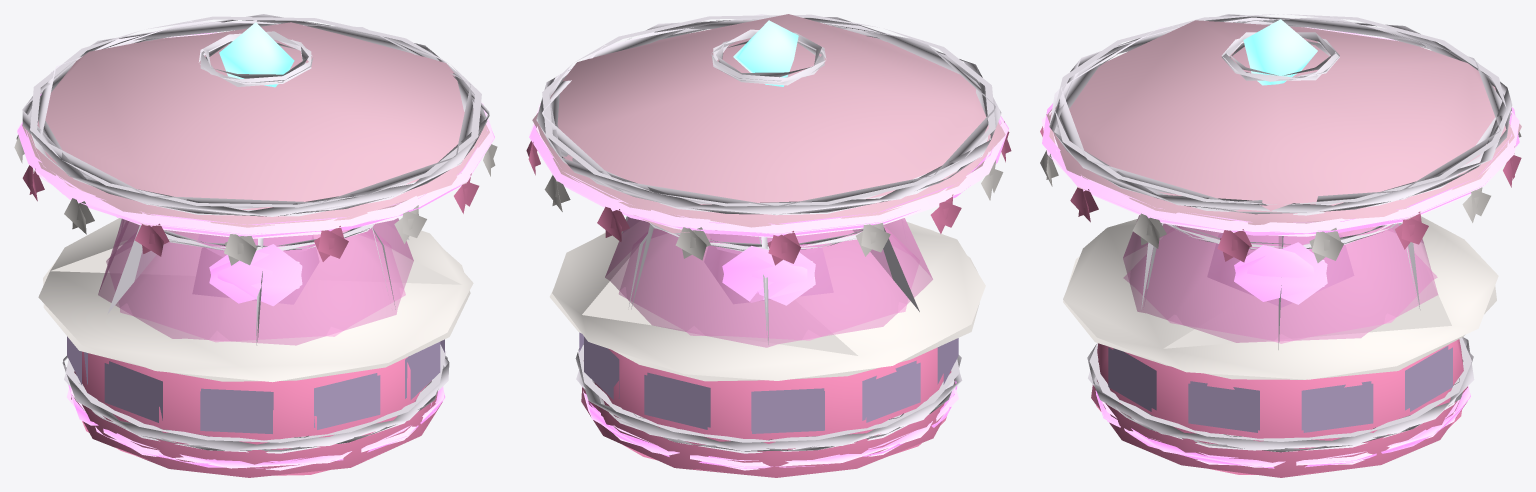
File: lod_kiosk_pod.glb
3 views of the same model, side by side, from view 1: azimuth 30°, elevation 25°; view 2: azimuth 150°, elevation 25°; view 3: azimuth 270°, elevation 25° (orthographic).
Parts seen in each view (by area): view 1: kiosk_pod; view 2: kiosk_pod; view 3: kiosk_pod.
Boxes of the visible parts, x1,y1,x2,y2 form: kiosk_pod: (14, 14, 497, 477); kiosk_pod: (526, 14, 1011, 477); kiosk_pod: (1040, 14, 1521, 477).
Size of the model in its own units: 3.94 by 3.44 by 3.94.
